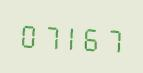one: (60, 19, 80, 53)
seven: (39, 18, 59, 52), (102, 21, 122, 55)
six: (81, 20, 101, 54)
zero: (18, 17, 38, 51)
